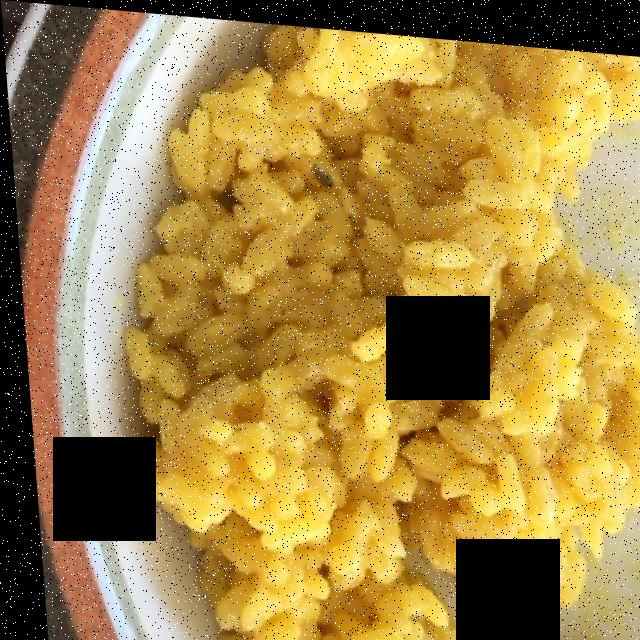rice: (125, 32, 640, 640)
